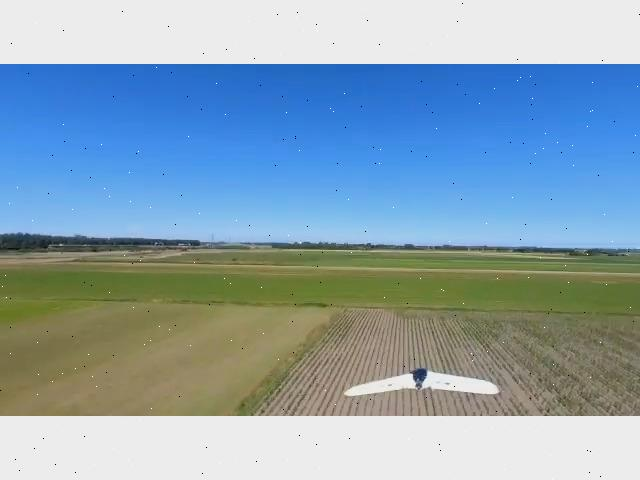Anti-Drone: (328, 355, 506, 410)
